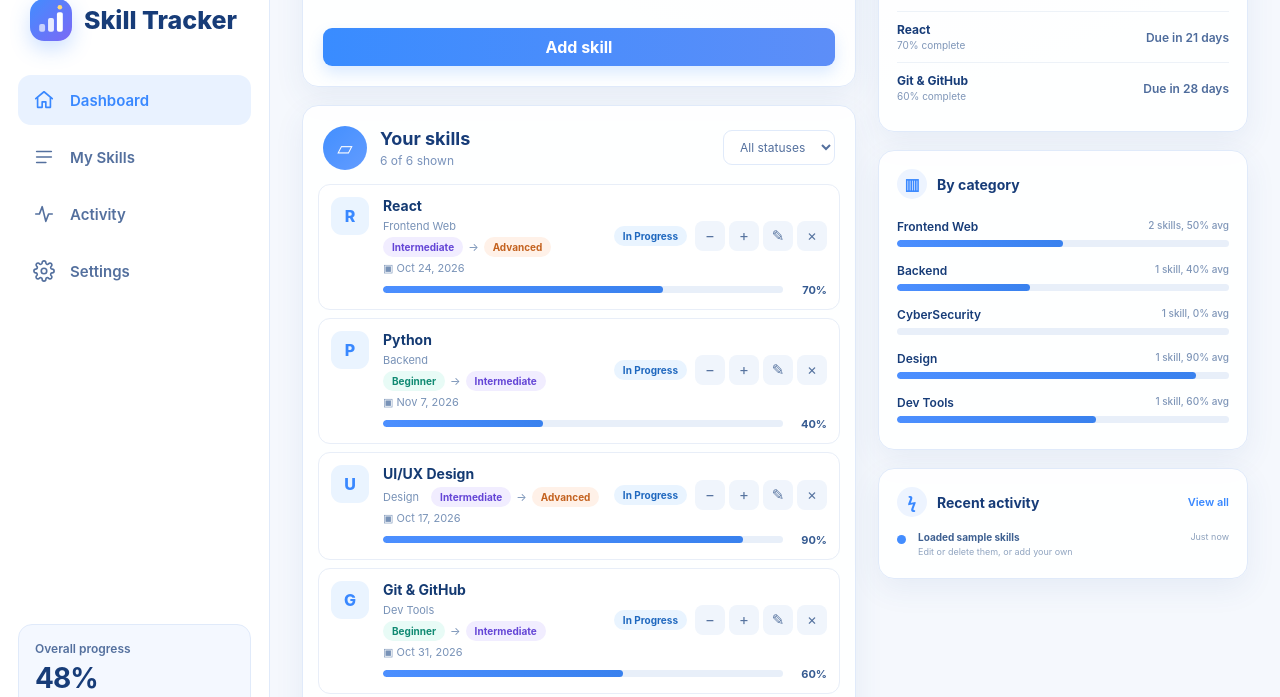
Test: Skill Tracker app › edits every field of a skill
(page scrolled)
Click the button named "edit python": [778, 370] box [763,355,793,385]
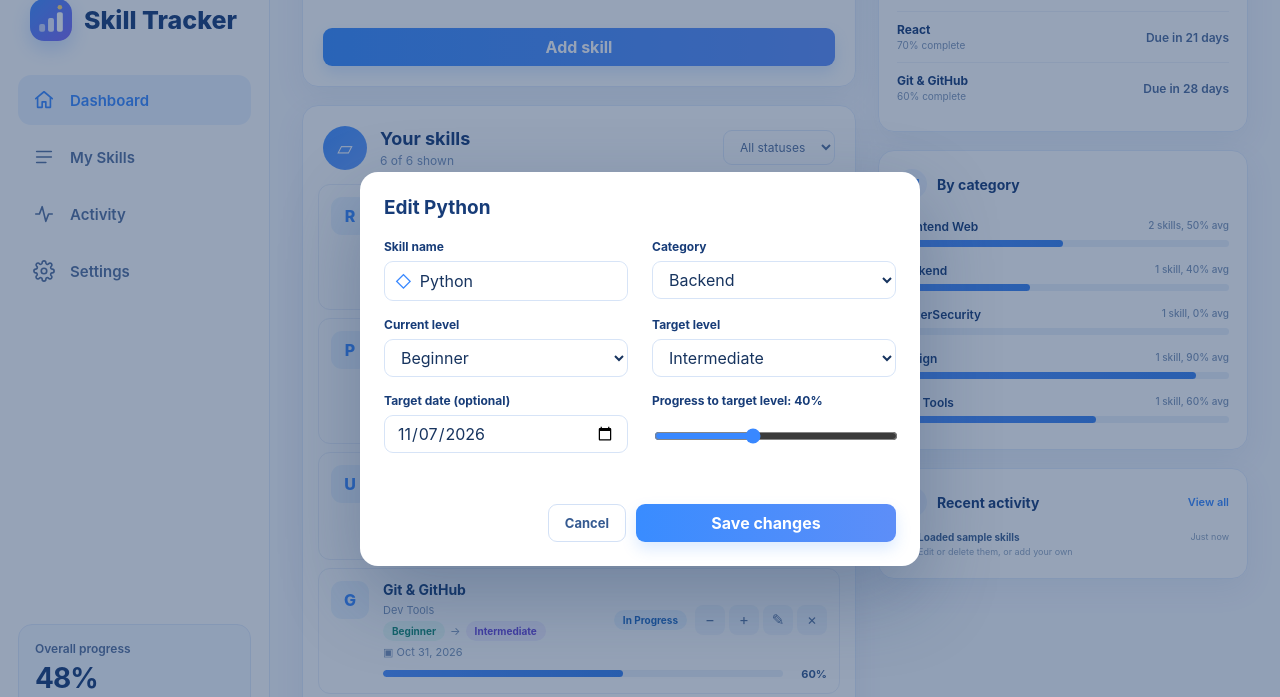
Replace the text in the field labelled "Skill name" with "Python 3": [523, 281] box [420,262,627,300]
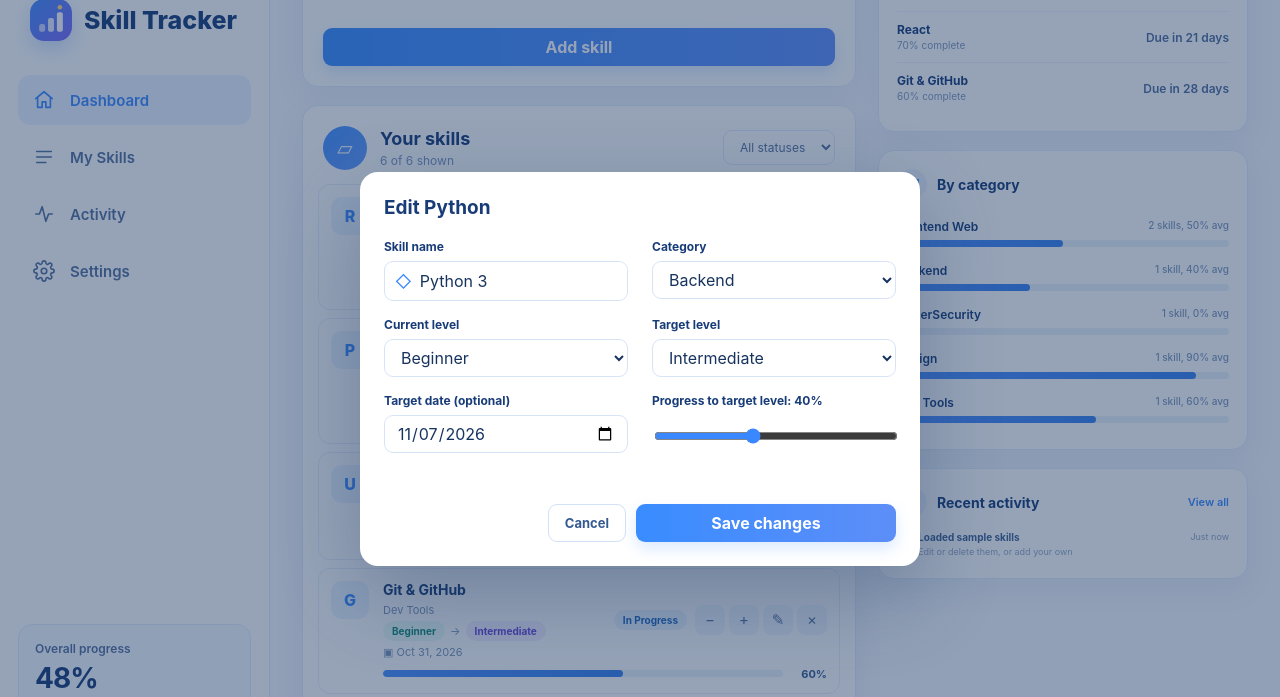
Select "Advanced" in the dropdown labelled "Target level": [774, 358] box [652,339,896,377]
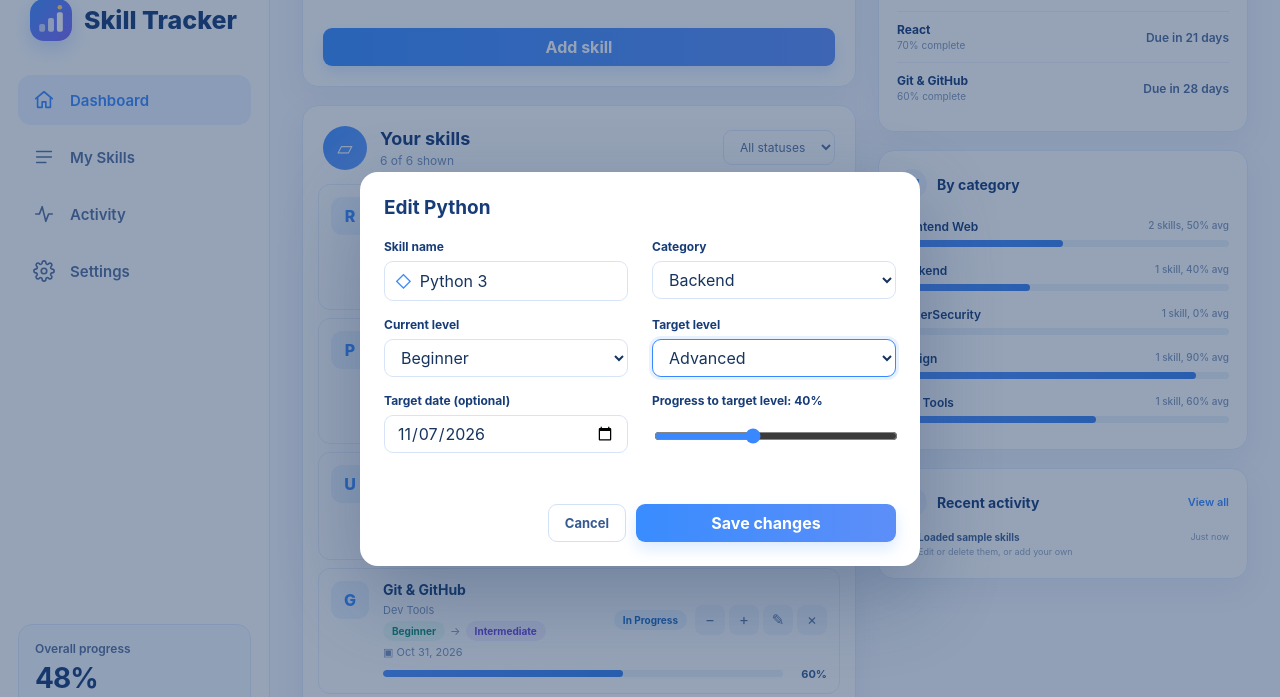
Click the button "Save changes": [766, 523] box [636,504,896,542]
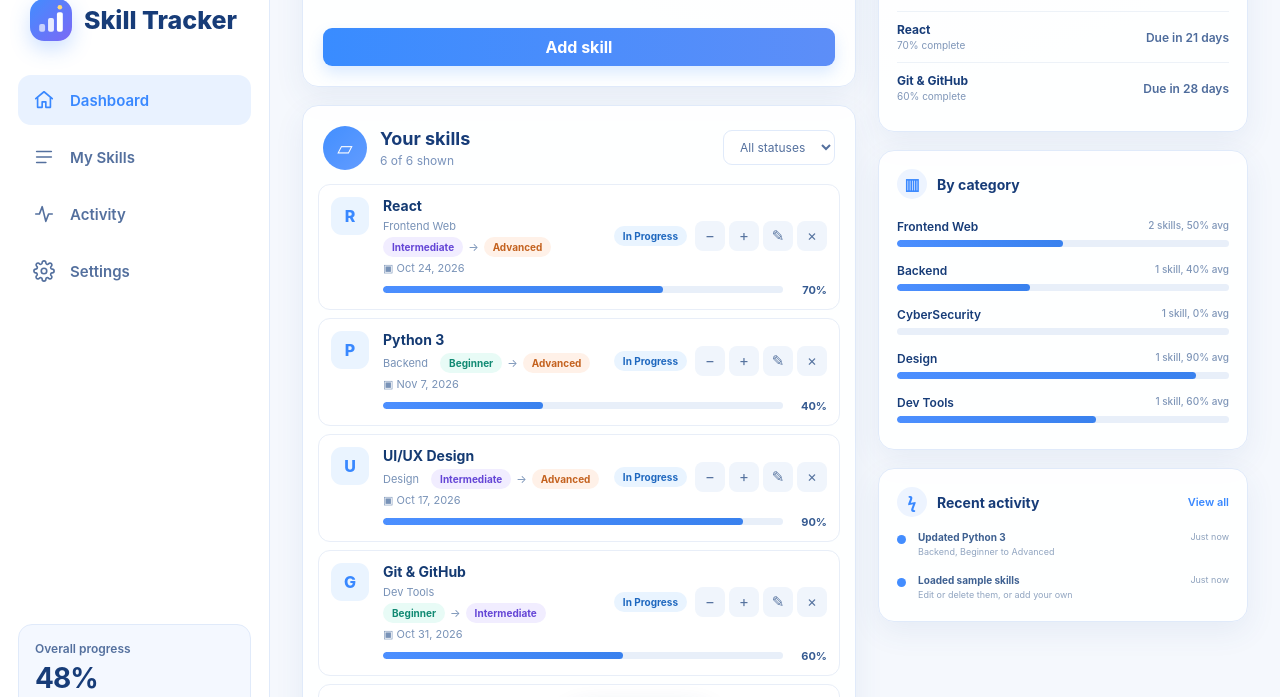
Expected: the 2nd text "Advanced" is shown, [523,353,590,373]
Expected: the dialog is gone
